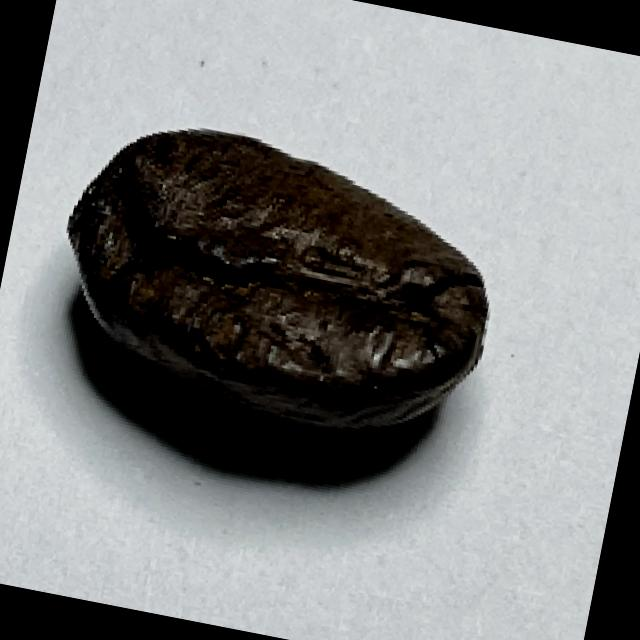bean: (38, 107, 514, 454)
